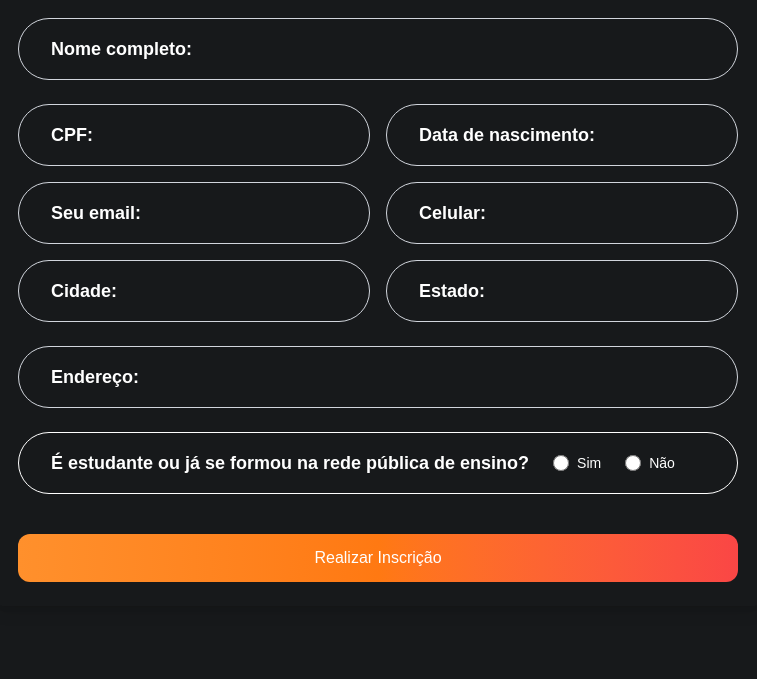
Test case: RegistrationForm Component › Form Validation › should show validation errors for empty required fields
Click the button "Realizar Inscrição" at (378, 558), box [18,534,738,582]
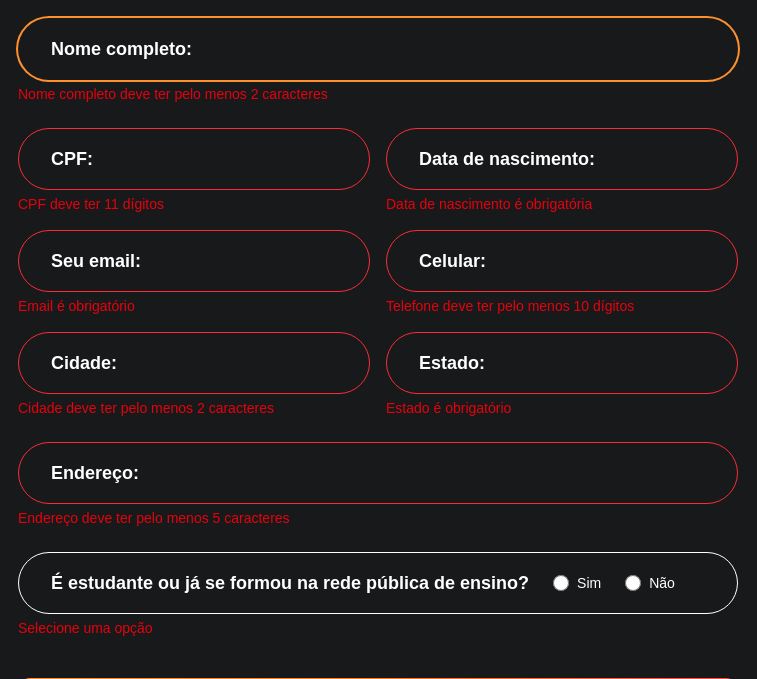
Expected: the text "Nome completo deve ter pelo menos 2 caracteres" is shown, [18,86,328,102]
Expected: the text "CPF deve ter 11 dígitos" is shown, [18,196,164,212]
Expected: the text "Data de nascimento é obrigatória" is shown, [386,196,592,212]
